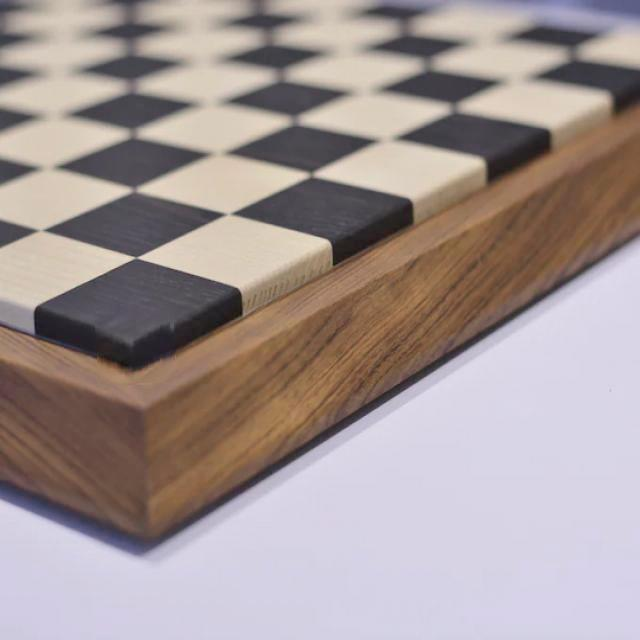chess-table-corners: (97, 311, 177, 385)
